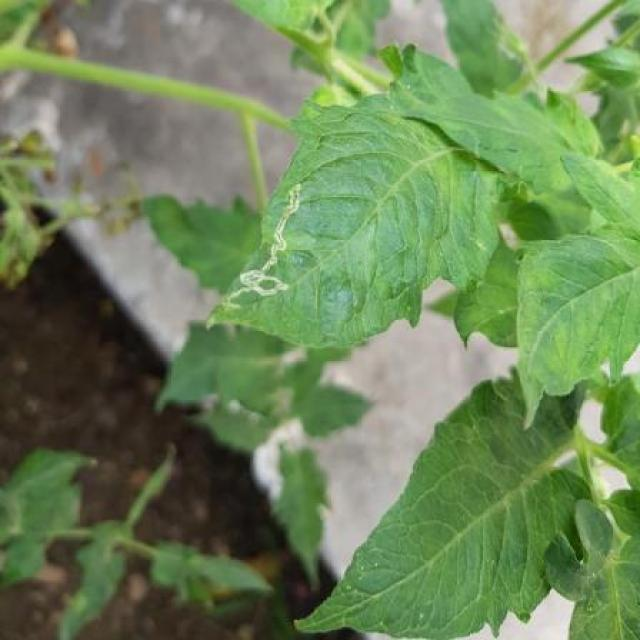Healthy: (310, 374, 593, 640)
Leaf Miner: (213, 92, 508, 354)
